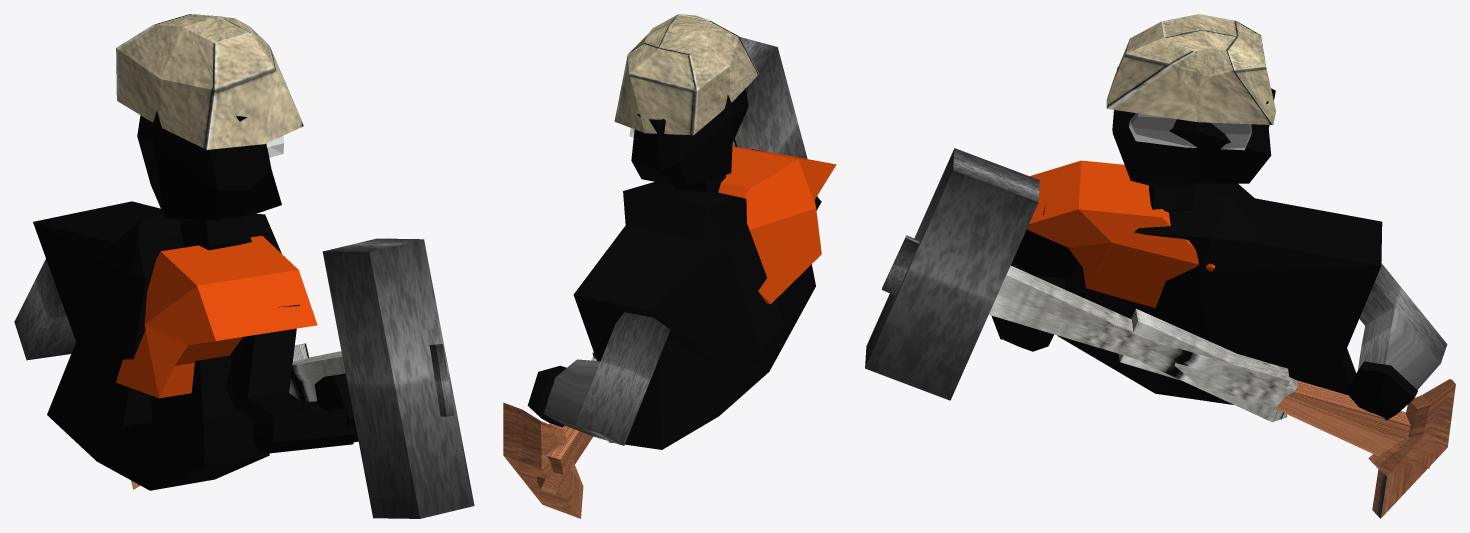
The model's file is character.fbx.
3 renders of one model, left to right at view 1: azimuth 30°, elevation 25°; view 2: azimuth 150°, elevation 25°; view 3: azimuth 270°, elevation 25°, orthographic. The views are drawn at different scales.
Parts seen in each view (by area): view 1: Cube.010, Cube.002, Cube.004, Cube.005, Cube.007, Cube, Cube.008, Cube.011, Cube.001, Cube.009; view 2: Cube.004, Cube.002, Cube.010, Cube.007, Cube.005, Cube.011, Cube, Cube.012, Cube.001; view 3: Cube.010, Cube.004, Cube.005, Cube.002, Cube, Cube.011, Cube.007, Cube.012, Cube.008, Cube.003, Cube.001, Cube.009.
Part boxes in pixels (bbox=[...]): Cube.010: bbox=[131, 238, 474, 518]; Cube.002: bbox=[116, 14, 303, 149]; Cube.004: bbox=[33, 201, 281, 427]; Cube.005: bbox=[116, 235, 317, 398]; Cube.007: bbox=[47, 342, 269, 490]; Cube: bbox=[137, 111, 281, 221]; Cube.008: bbox=[225, 304, 356, 453]; Cube.011: bbox=[14, 259, 75, 360]; Cube.001: bbox=[180, 218, 251, 250]; Cube.009: bbox=[314, 373, 358, 443]; Cube.004: bbox=[573, 182, 784, 368]; Cube.002: bbox=[614, 14, 758, 135]; Cube.010: bbox=[503, 37, 817, 518]; Cube.007: bbox=[608, 264, 815, 449]; Cube.005: bbox=[718, 146, 836, 304]; Cube.011: bbox=[544, 312, 670, 445]; Cube: bbox=[631, 88, 748, 187]; Cube.012: bbox=[527, 365, 566, 427]; Cube.001: bbox=[674, 175, 725, 192]; Cube.010: bbox=[865, 148, 1455, 518]; Cube.004: bbox=[1134, 183, 1382, 389]; Cube.005: bbox=[1026, 160, 1214, 308]; Cube.002: bbox=[1106, 14, 1276, 124]; Cube: bbox=[1112, 67, 1275, 188]; Cube.011: bbox=[1358, 263, 1447, 389]; Cube.007: bbox=[1057, 262, 1356, 404]; Cube.012: bbox=[1347, 361, 1417, 420]; Cube.008: bbox=[1004, 204, 1078, 351]; Cube.003: bbox=[1129, 113, 1251, 150]; Cube.001: bbox=[1149, 184, 1196, 212]; Cube.009: bbox=[991, 315, 1044, 345].
Size of the model in its own units: 151 by 387 by 436.
